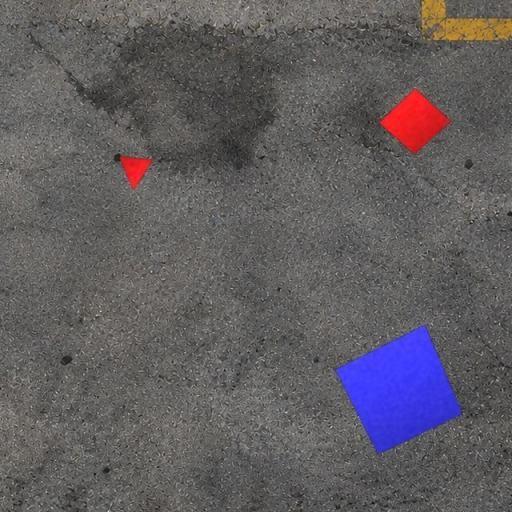BLUE_SQUARE: (334, 324, 464, 455)
RED_SQUARE: (378, 88, 452, 155)
